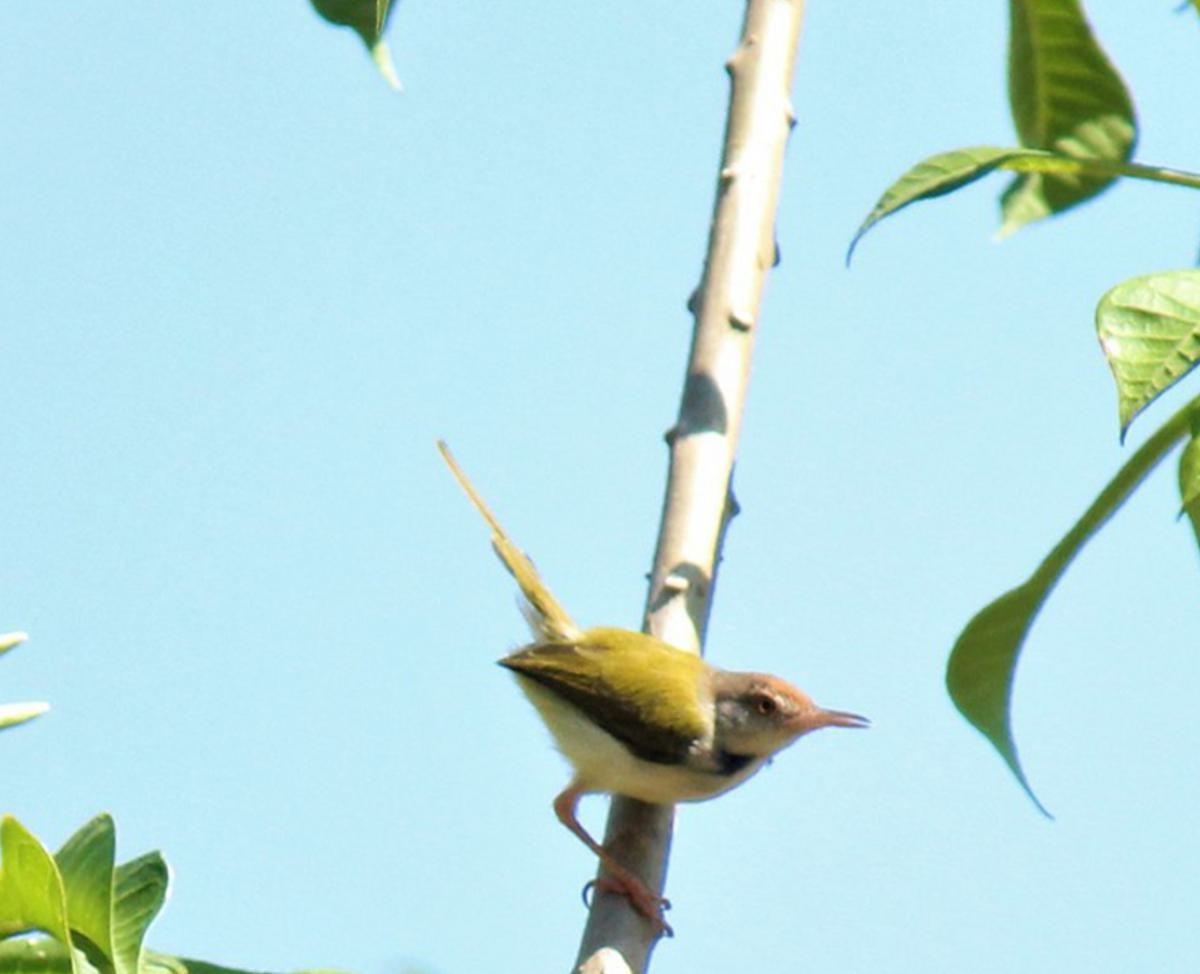tailorbird: (403, 408, 895, 906)
